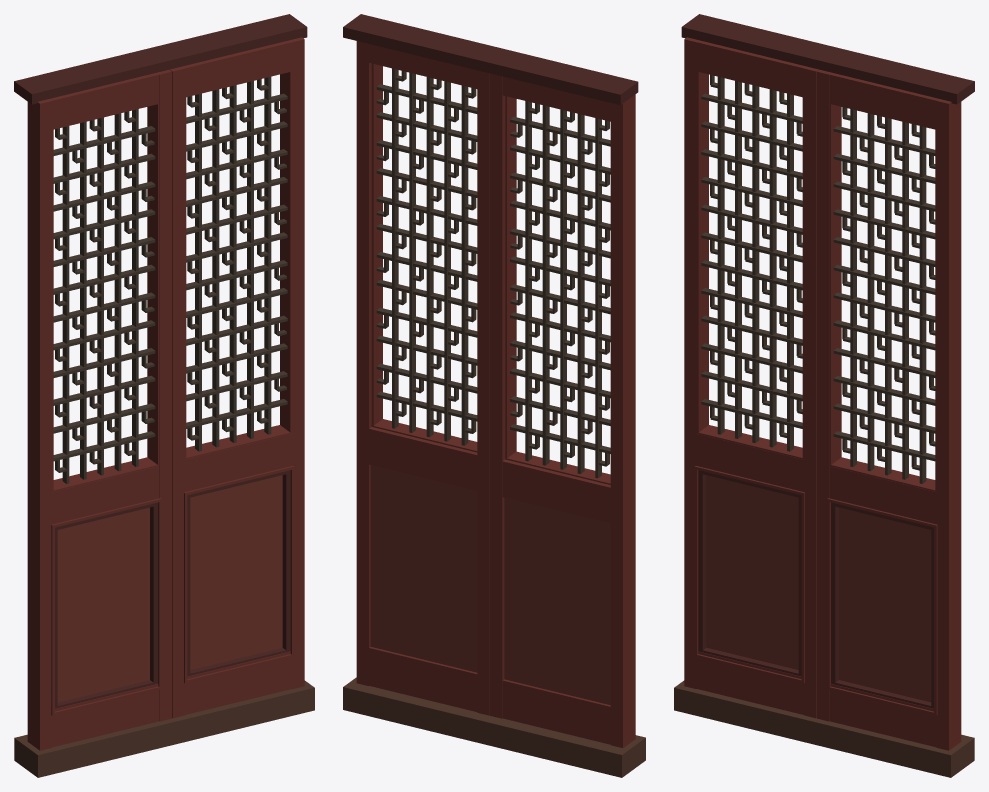
The model's file is changning-fudan-denghui-hall-lattice-doors-lod.glb.
3 views of the same model, side by side, from view 1: azimuth 30°, elevation 25°; view 2: azimuth 150°, elevation 25°; view 3: azimuth 330°, elevation 25° (orthographic).
Parts seen in each view (by area): view 1: 复旦公学登辉堂正厅朱漆格扇; view 2: 复旦公学登辉堂正厅朱漆格扇; view 3: 复旦公学登辉堂正厅朱漆格扇.
Boxes of the visible parts, bbox=[...] form: 复旦公学登辉堂正厅朱漆格扇: bbox=[14, 14, 314, 777]; 复旦公学登辉堂正厅朱漆格扇: bbox=[343, 14, 645, 777]; 复旦公学登辉堂正厅朱漆格扇: bbox=[674, 14, 974, 777].
Bounding box in the file's own units: 1.22 × 2.87 × 0.188.
